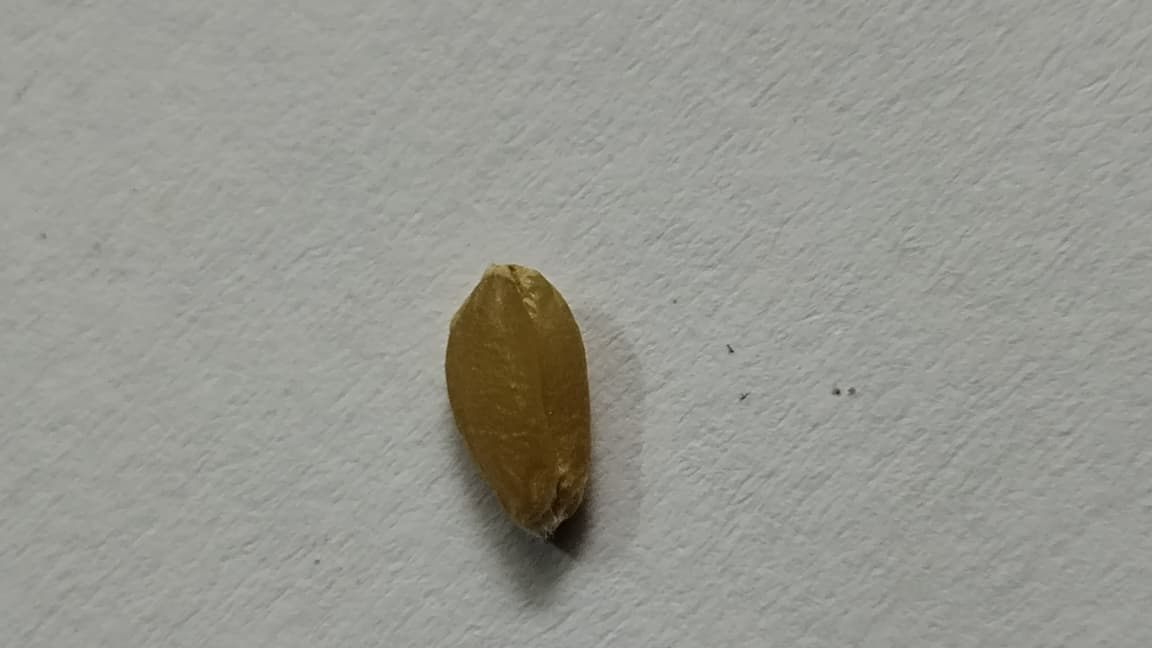healthy: (446, 265, 588, 536)
